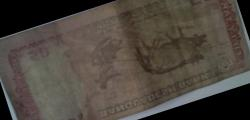50 taka: (6, 2, 236, 118)
